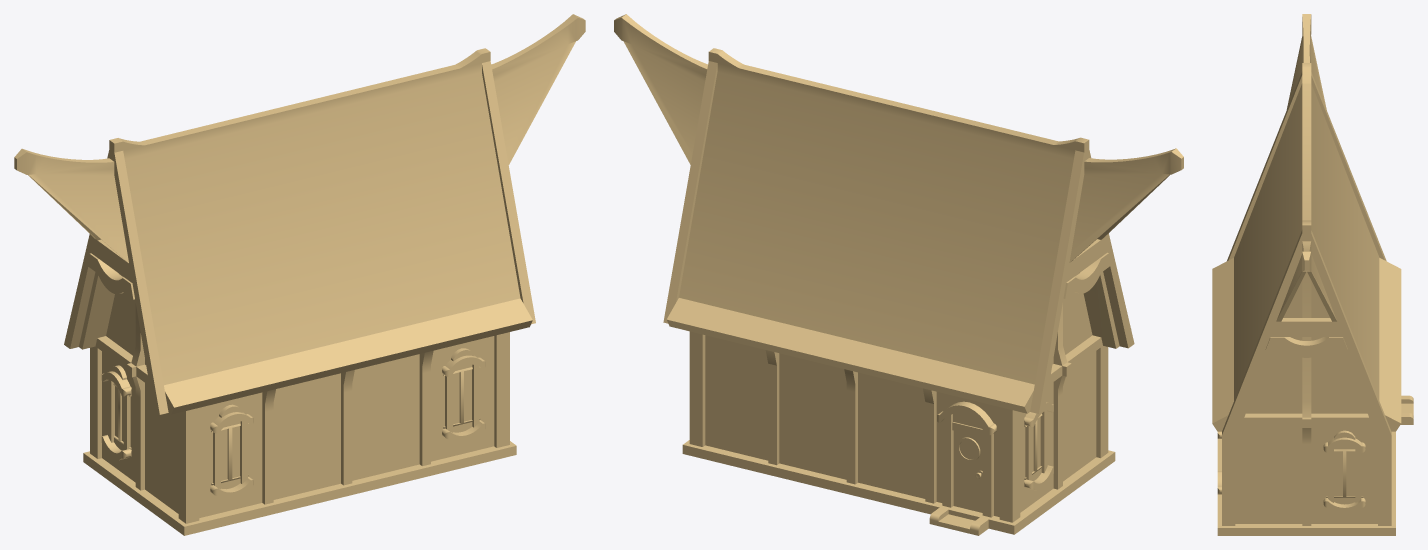
The model's file is House(No-texture).fbx.
3 renders of one model, left to right at view 1: azimuth 30°, elevation 25°; view 2: azimuth 150°, elevation 25°; view 3: azimuth 270°, elevation 25°, orthographic. The views are drawn at different scales.
Parts seen in each view (by area): view 1: House; view 2: House; view 3: House.
Boxes of the visible parts, box(x1,y1,x2,y2) form: House: box(14, 14, 585, 535); House: box(614, 14, 1183, 535); House: box(1212, 14, 1413, 535).
Size of the model in its own units: 3250 by 2050 by 1130.
